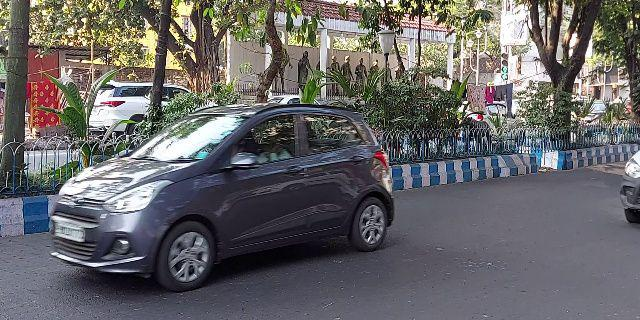Car: (47, 100, 396, 290)
